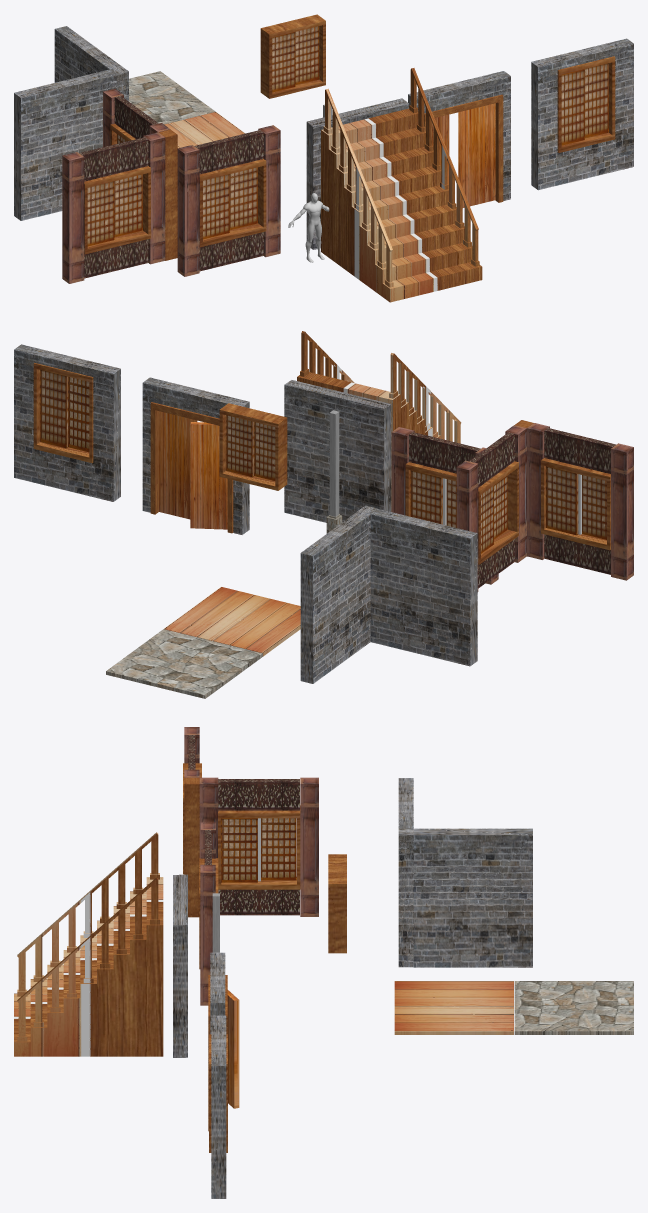
The model's file is wooden_stairs.fbx.
The picture shows the model from 3 angles, top to bottom: view 1: azimuth 30°, elevation 25°; view 2: azimuth 150°, elevation 25°; view 3: azimuth 270°, elevation 25°; orthographic projection. The views are drawn at different scales.
Parts seen in each view (by area): view 1: Cube.015, stone_corner, brick_window, door.002, wood_wall.001, wood_wall.002, brick_wall.001, stone_floor, window_frame.002, Cube, Cube.003, Cube.010 (+22 smaller); view 2: stone_corner, Cube, brick_window, stone_floor, wood_floor, Cube.015, brick_wall.001, door.001, door.002, wood_wall.001, window_frame.002, Cube.003 (+24 smaller); view 3: Cube.015, stone_corner, stone_floor, wood_floor, brick_window, Cube, wood_wall.003, Cube.005, window.008, window.007, Cube.007, Cube.014 (+6 smaller).
Boxes of the visible parts, box(x1,y1,x2,y2) form: Cube.015: box(321, 68, 482, 302); stone_corner: box(14, 26, 128, 220); brick_window: box(531, 38, 633, 190); door.002: box(458, 103, 495, 207); wood_wall.001: box(62, 152, 84, 283); wood_wall.002: box(177, 145, 199, 276); brick_wall.001: box(408, 71, 510, 200); stone_floor: box(129, 71, 215, 124); window_frame.002: box(260, 14, 325, 98); Cube: box(306, 98, 408, 249); Cube.003: box(143, 132, 165, 264); Cube.010: box(258, 125, 280, 257); stone_corner: box(300, 505, 477, 683); Cube: box(284, 380, 391, 522); brick_window: box(14, 344, 120, 501); stone_floor: box(106, 629, 262, 698); wood_floor: box(164, 587, 300, 656); Cube.015: box(297, 331, 461, 511); brick_wall.001: box(142, 377, 249, 534); door.001: box(190, 422, 227, 529); door.002: box(158, 411, 197, 519); wood_wall.001: box(611, 443, 633, 580); window_frame.002: box(219, 403, 287, 490); Cube.003: box(527, 423, 549, 559); Cube.015: box(14, 832, 163, 1056); stone_corner: box(398, 778, 532, 967); stone_floor: box(514, 981, 633, 1034); wood_floor: box(394, 981, 513, 1034); brick_window: box(211, 1015, 226, 1198); Cube: box(173, 874, 187, 1057); wood_wall.003: box(300, 777, 318, 916); Cube.005: box(218, 779, 299, 810); window.008: box(221, 818, 257, 882); window.007: box(261, 818, 296, 880); Cube.007: box(218, 889, 299, 915); Cube.014: box(184, 777, 199, 917).
Size of the model in its own units: 1534 by 456 by 1324.
